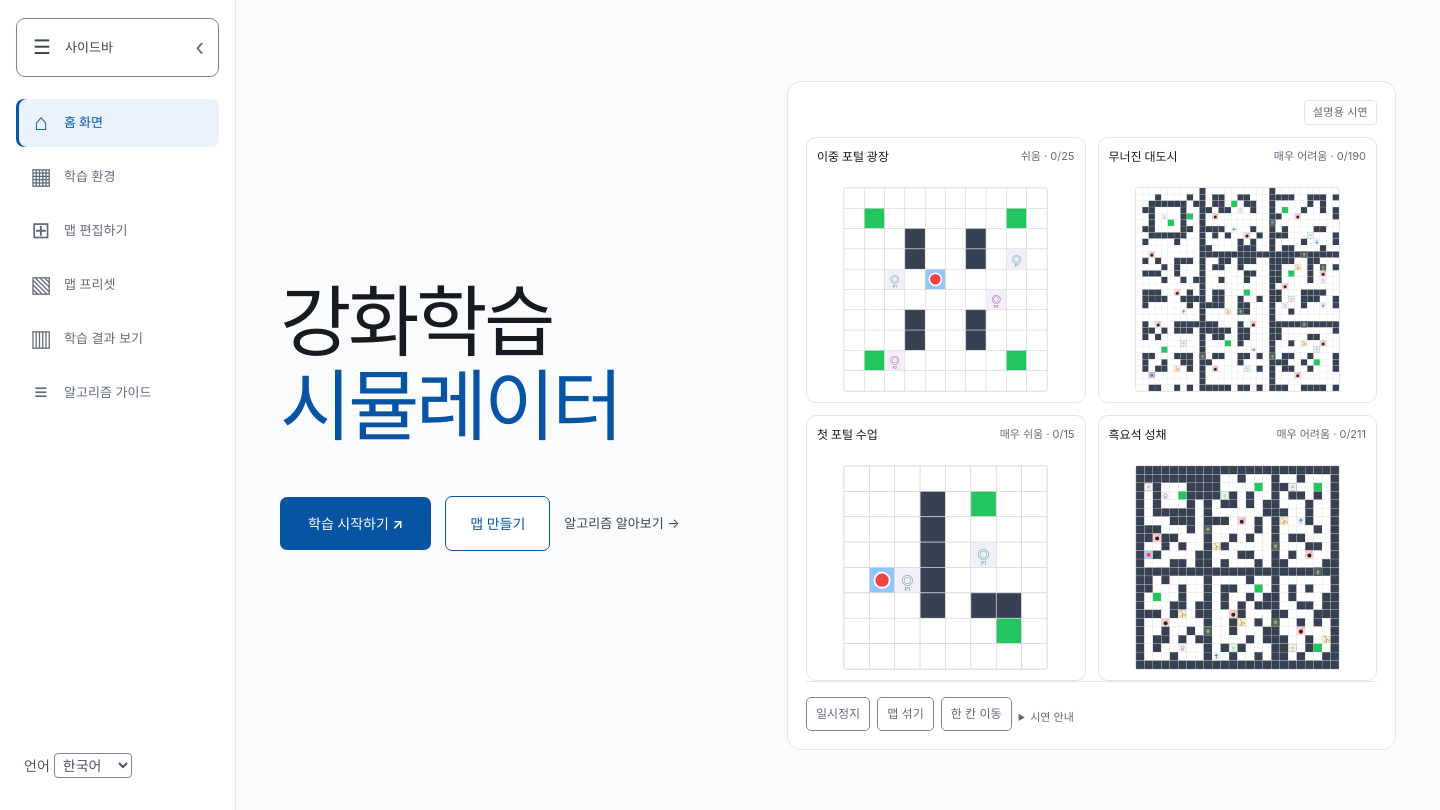
Test: Home hero is reduced to the title, two actions and the live demos › opens the map editor from the Make a map button
This screenshot has width=1440, height=810.
Click the button with test id "home-make-map" at (498, 524), box [445,496,550,551]
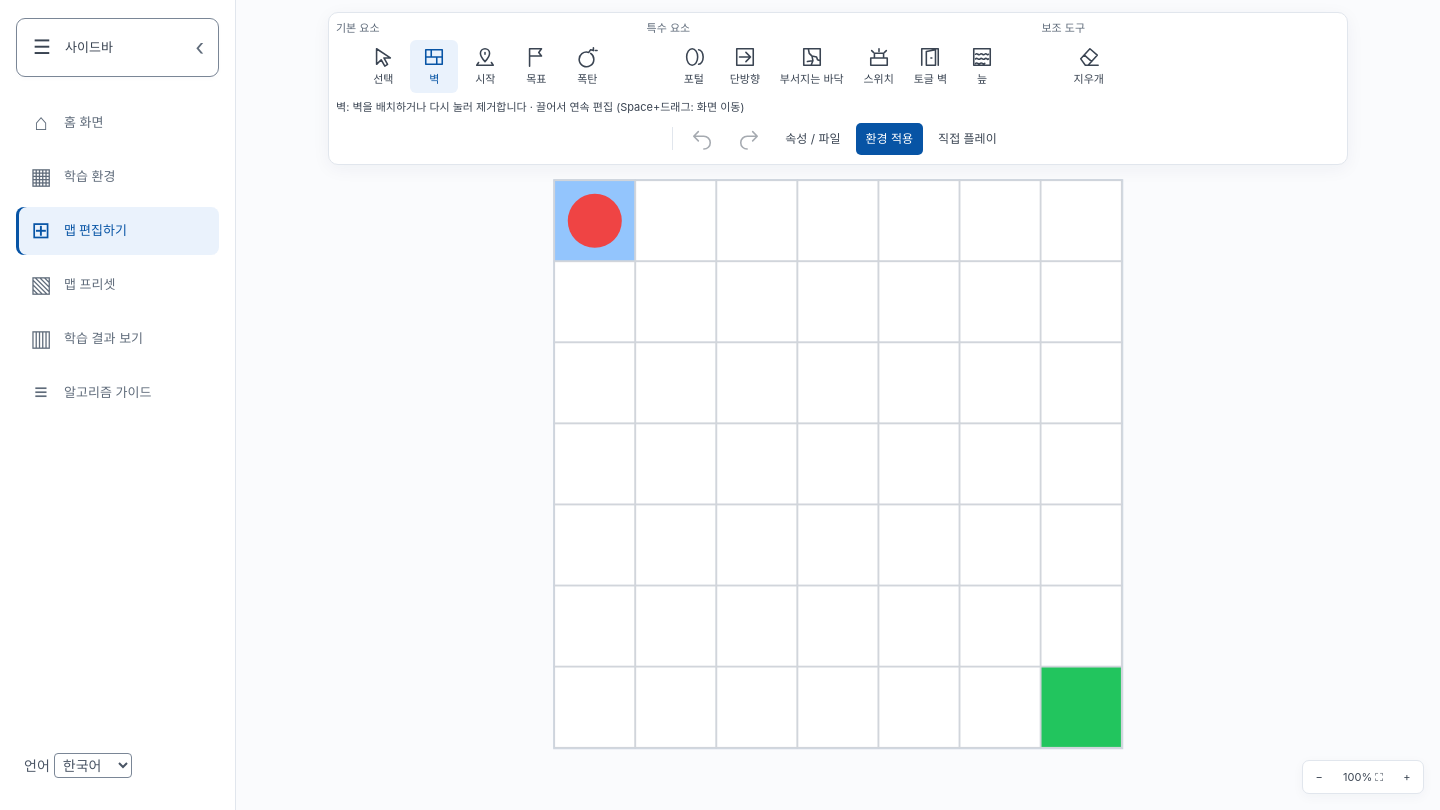
Now the element with test id "env-editor" is shown
Now the element with class "home-page" is gone
